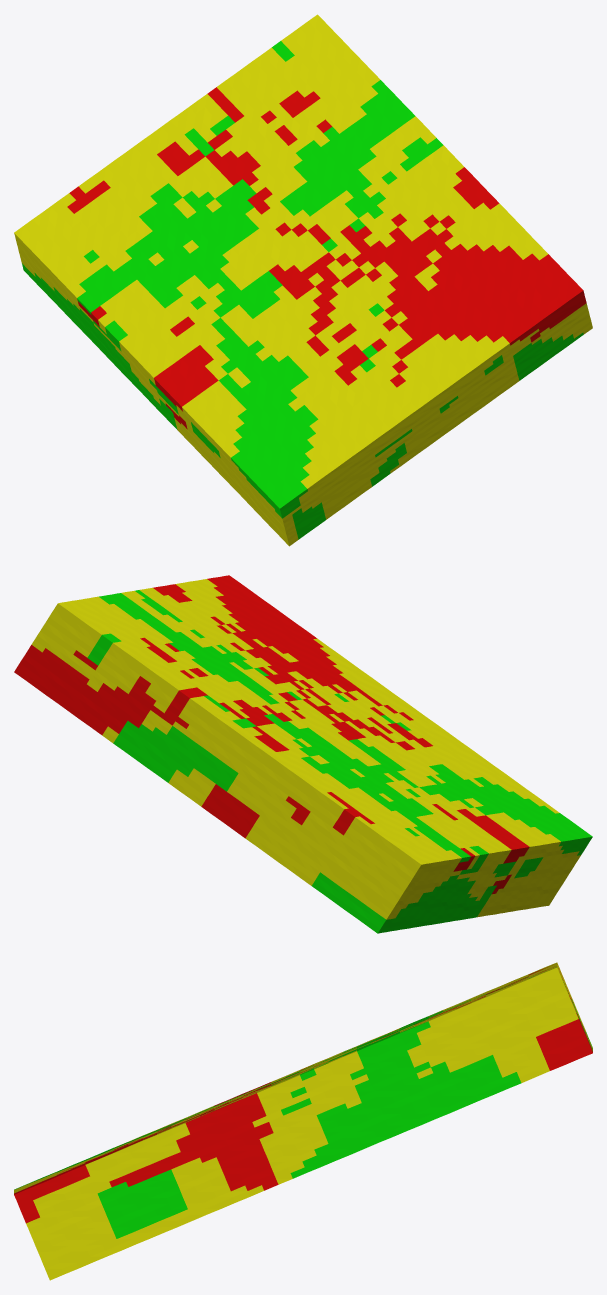
The model's file is voxels_ecef_fullcube.glb.
3 renders of one model, top to bottom at view 1: azimuth 30°, elevation 25°; view 2: azimuth 150°, elevation 25°; view 3: azimuth 270°, elevation 25°, orthographic. The views are drawn at different scales.
Parts seen in each view (by area): view 1: world; view 2: world; view 3: world.
Boxes of the visible parts, x1=… form: world: x1=14, y1=14, x2=592, y2=546; world: x1=14, y1=575, x2=592, y2=933; world: x1=14, y1=962, x2=592, y2=1280.
Size of the model in its own units: 960 by 801 by 934.
